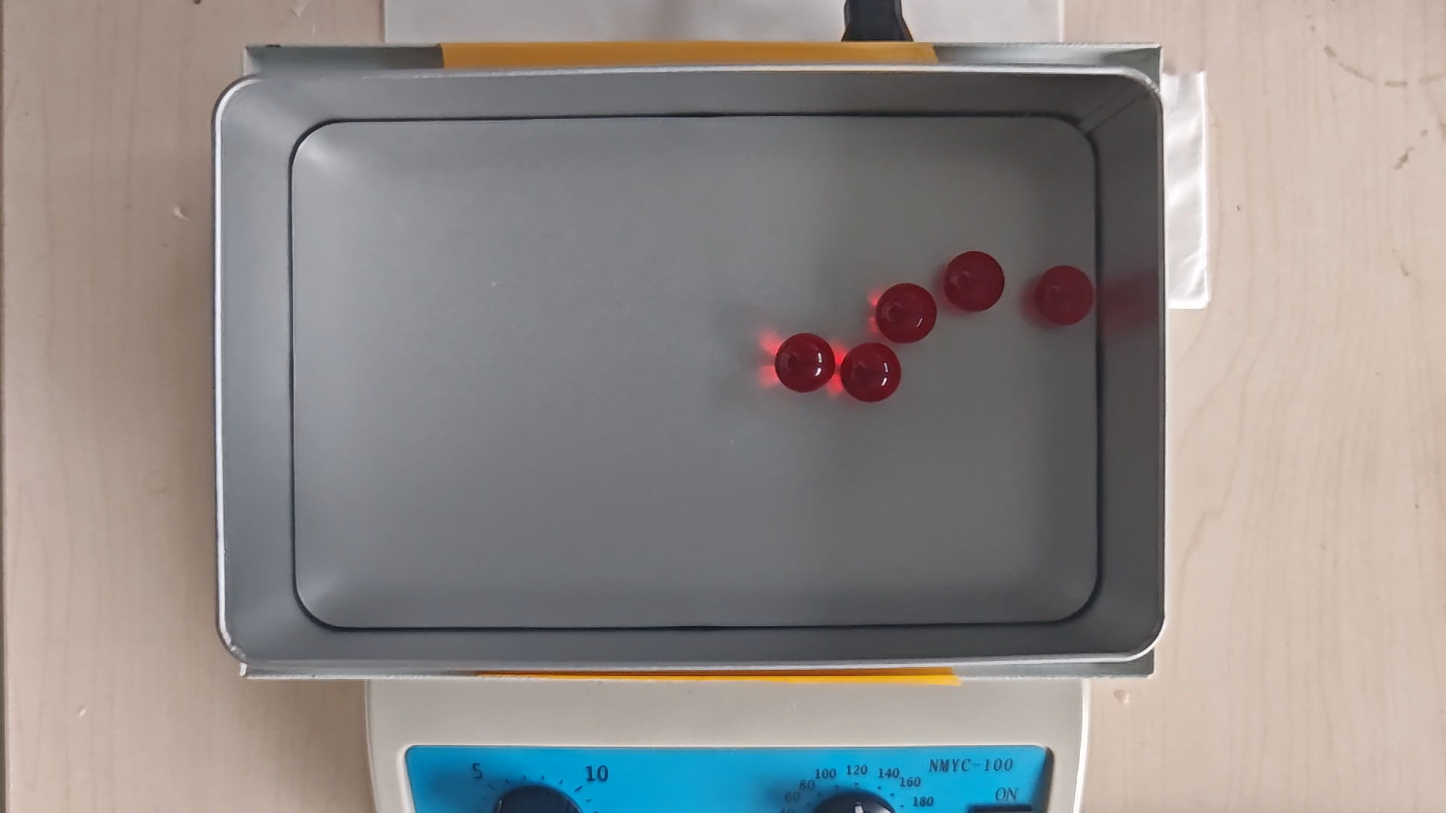ball: (776, 333, 834, 397), (877, 282, 936, 344), (944, 250, 1003, 311), (844, 342, 901, 405), (1037, 266, 1093, 325)
container: (285, 114, 1103, 629)
